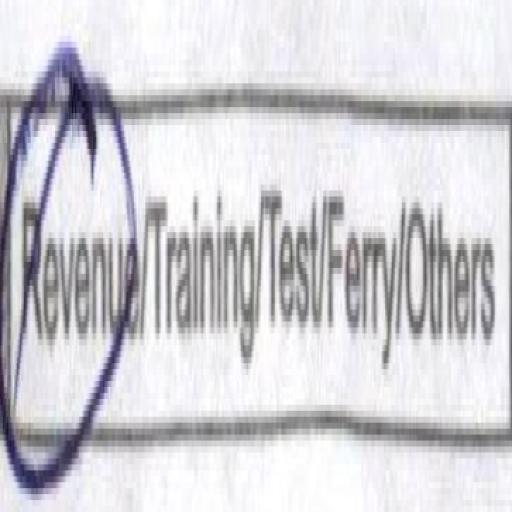check: (0, 45, 144, 507)
